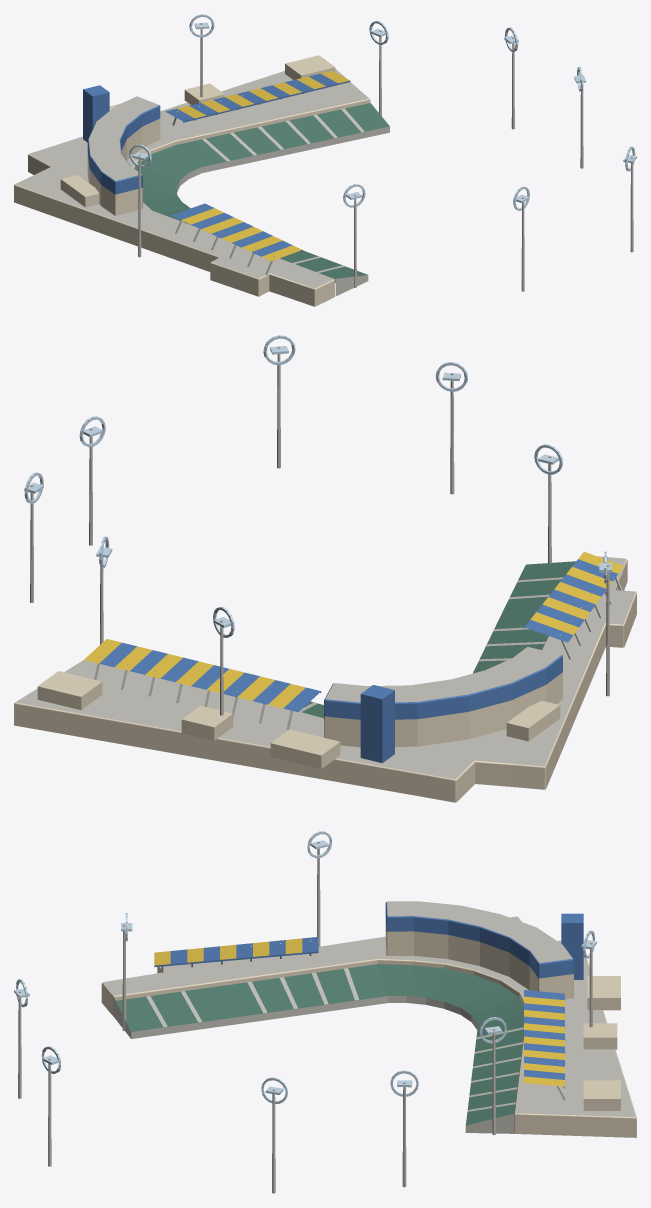
File: nyc-maimonides-park.glb
The picture shows the model from 3 angles, top to bottom: view 1: azimuth 30°, elevation 25°; view 2: azimuth 150°, elevation 25°; view 3: azimuth 270°, elevation 25°; orthographic projection. The views are drawn at different scales.
Visible parts, largest first — view 1: Maimonides Park; view 2: Maimonides Park; view 3: Maimonides Park.
Boxes of the visible parts, x1,y1,x2,y2 form: Maimonides Park: (14, 14, 636, 306); Maimonides Park: (14, 335, 636, 802); Maimonides Park: (14, 831, 636, 1193).
Size of the model in its own units: 164 by 37.39 by 167.
